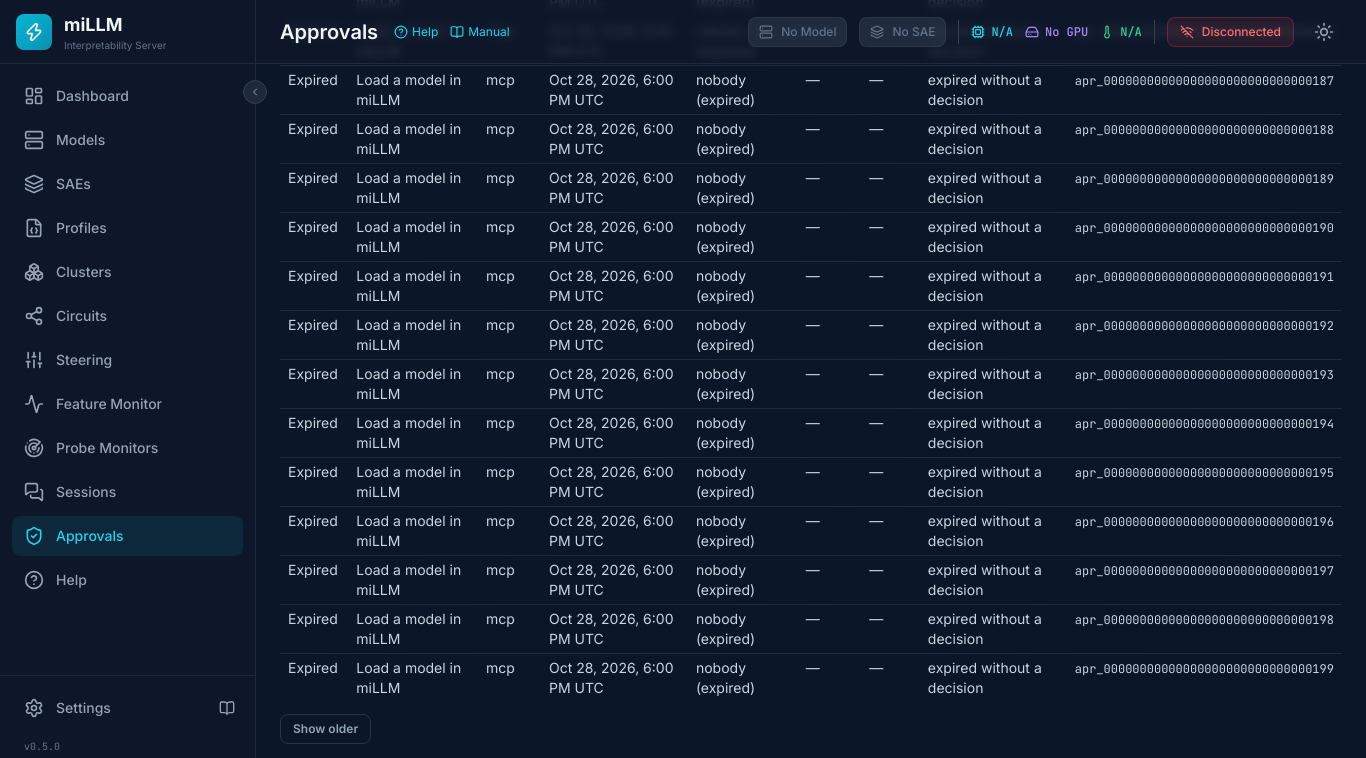
Test: the Approvals page › Show older loads the next page of History
(page scrolled)
Click the button "Show older": (326, 729) [280,714,371,744]
(page scrolled)
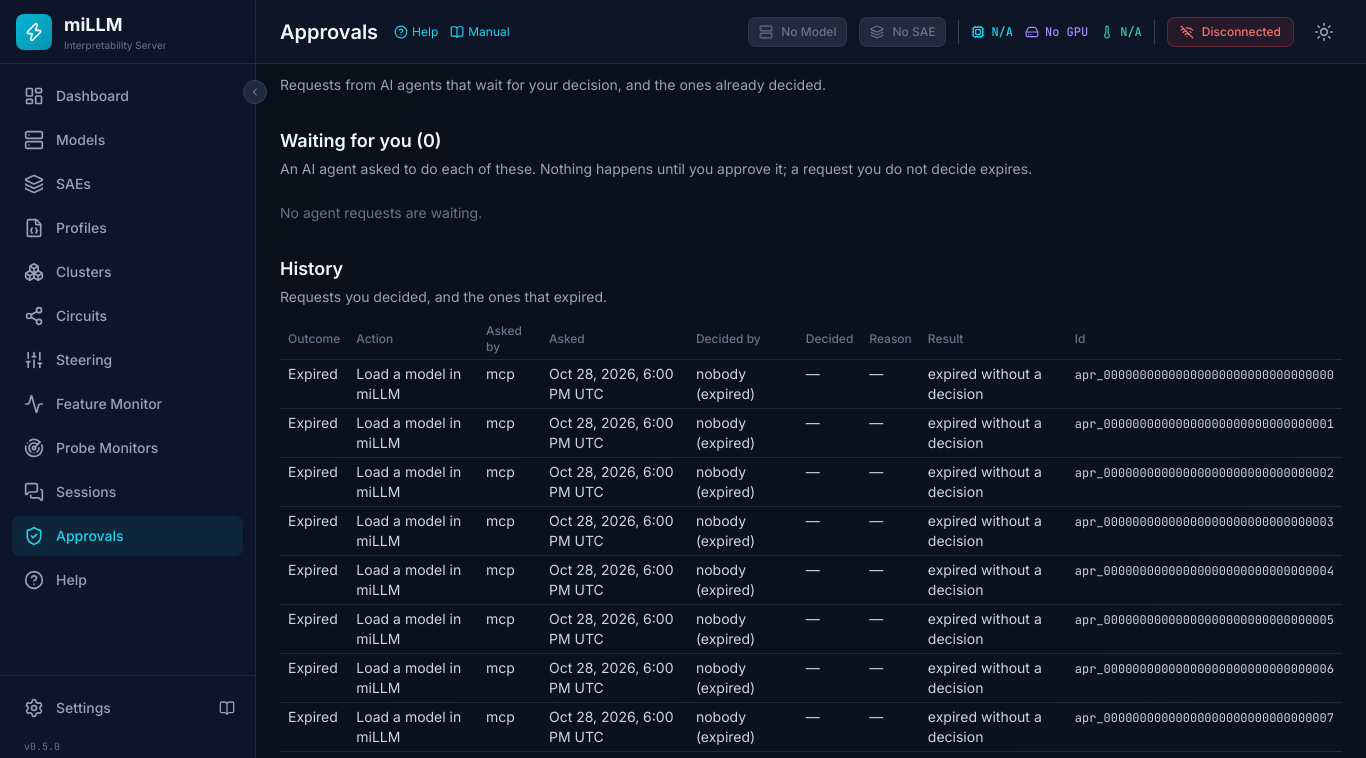
Now the button "Show older" is gone
